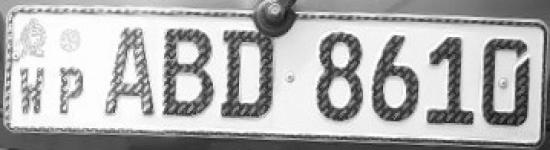0: (477, 31, 532, 134)
1: (421, 31, 477, 132)
6: (369, 25, 422, 128)
8: (316, 27, 369, 130)
A: (101, 20, 158, 123)
B: (157, 22, 217, 122)
D: (216, 24, 281, 123)
P: (54, 62, 89, 118)
W: (17, 62, 46, 117)
